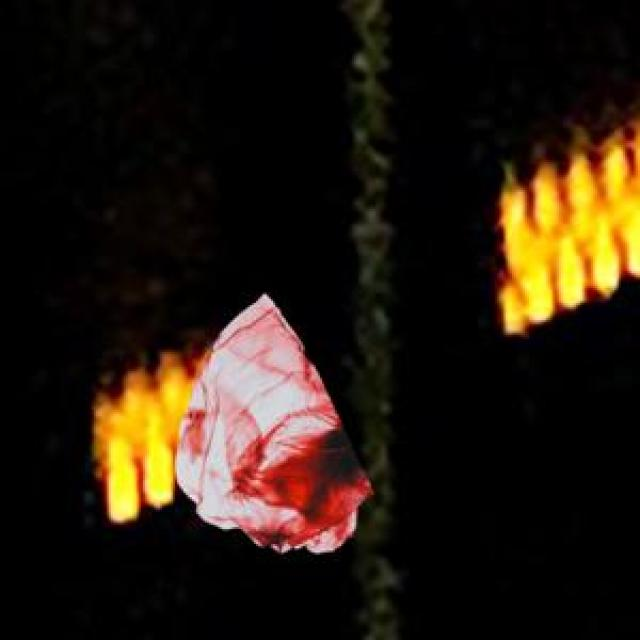plastic: (133, 275, 442, 575)
